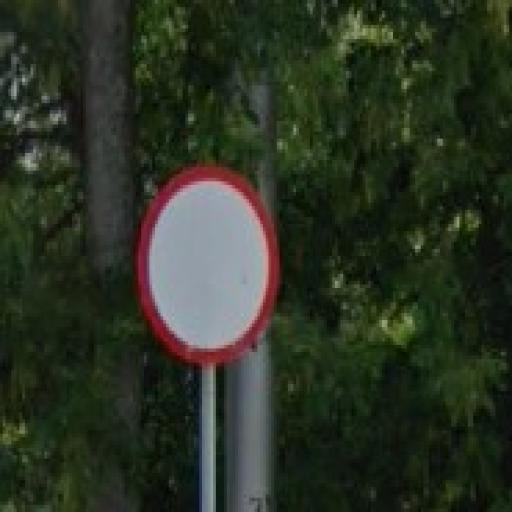traffic_sign: (137, 168, 281, 364)
